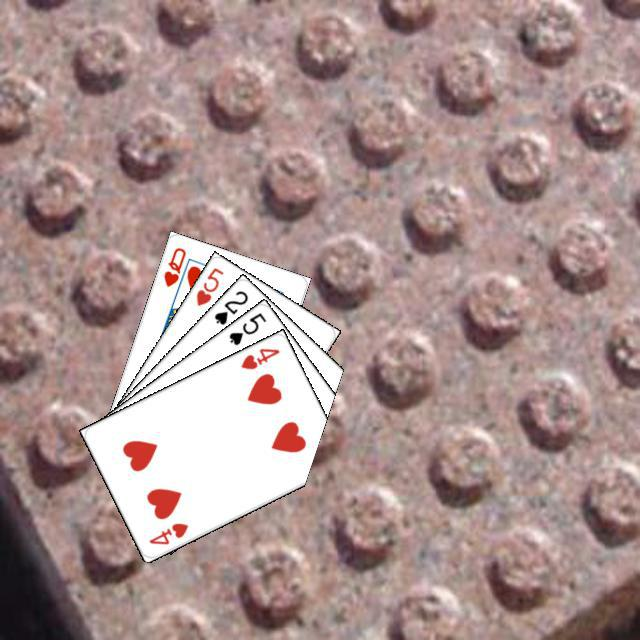2s: (209, 286, 250, 327)
4h: (144, 518, 190, 547), (236, 343, 281, 371)
5h: (191, 263, 225, 308)
5s: (224, 308, 268, 347)
Qh: (159, 242, 188, 289)
